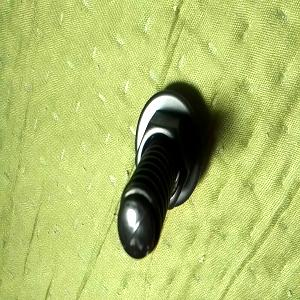parafuso: (117, 89, 205, 260)
